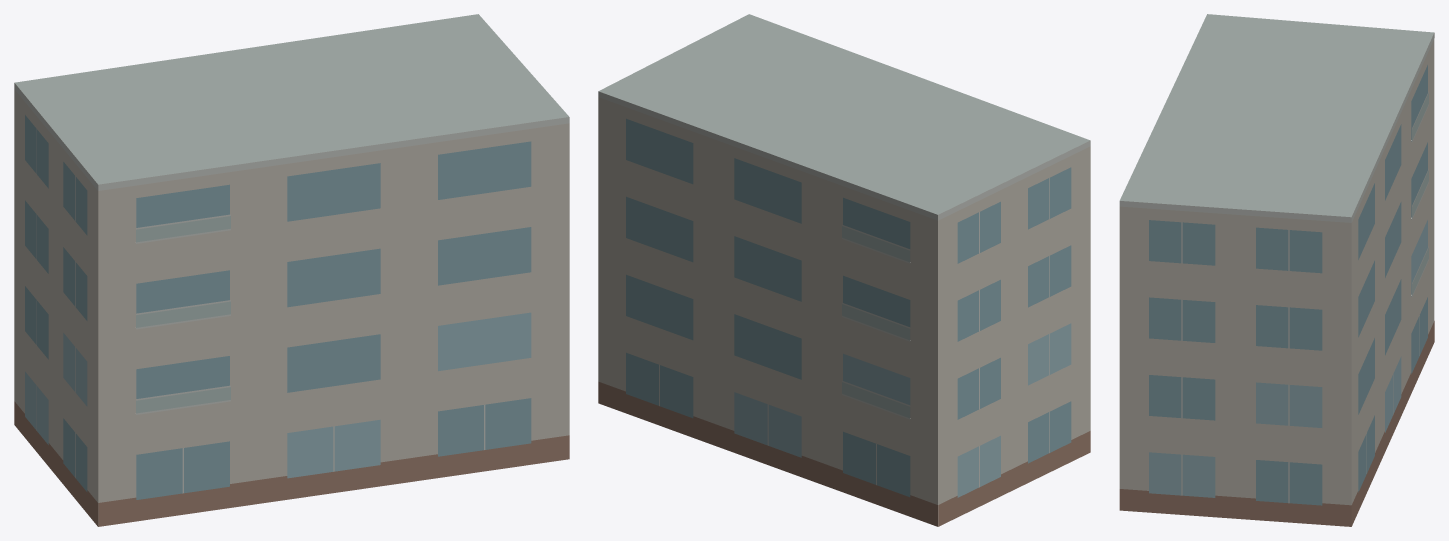
The model's file is survey-upis-33006275.glb.
The picture shows the model from 3 angles, left to right: view 1: azimuth 30°, elevation 25°; view 2: azimuth 150°, elevation 25°; view 3: azimuth 270°, elevation 25°; orthographic projection. The views are drawn at different scales.
Parts seen in each view (by area): view 1: survey-upis-33006275.tmp; view 2: survey-upis-33006275.tmp; view 3: survey-upis-33006275.tmp.
Part boxes in pixels (x1,y1,x2,y2): survey-upis-33006275.tmp: [14, 14, 569, 526]; survey-upis-33006275.tmp: [598, 14, 1090, 526]; survey-upis-33006275.tmp: [1119, 14, 1434, 526].
Size of the model in its own units: 18.44 by 13.1 by 12.08.
